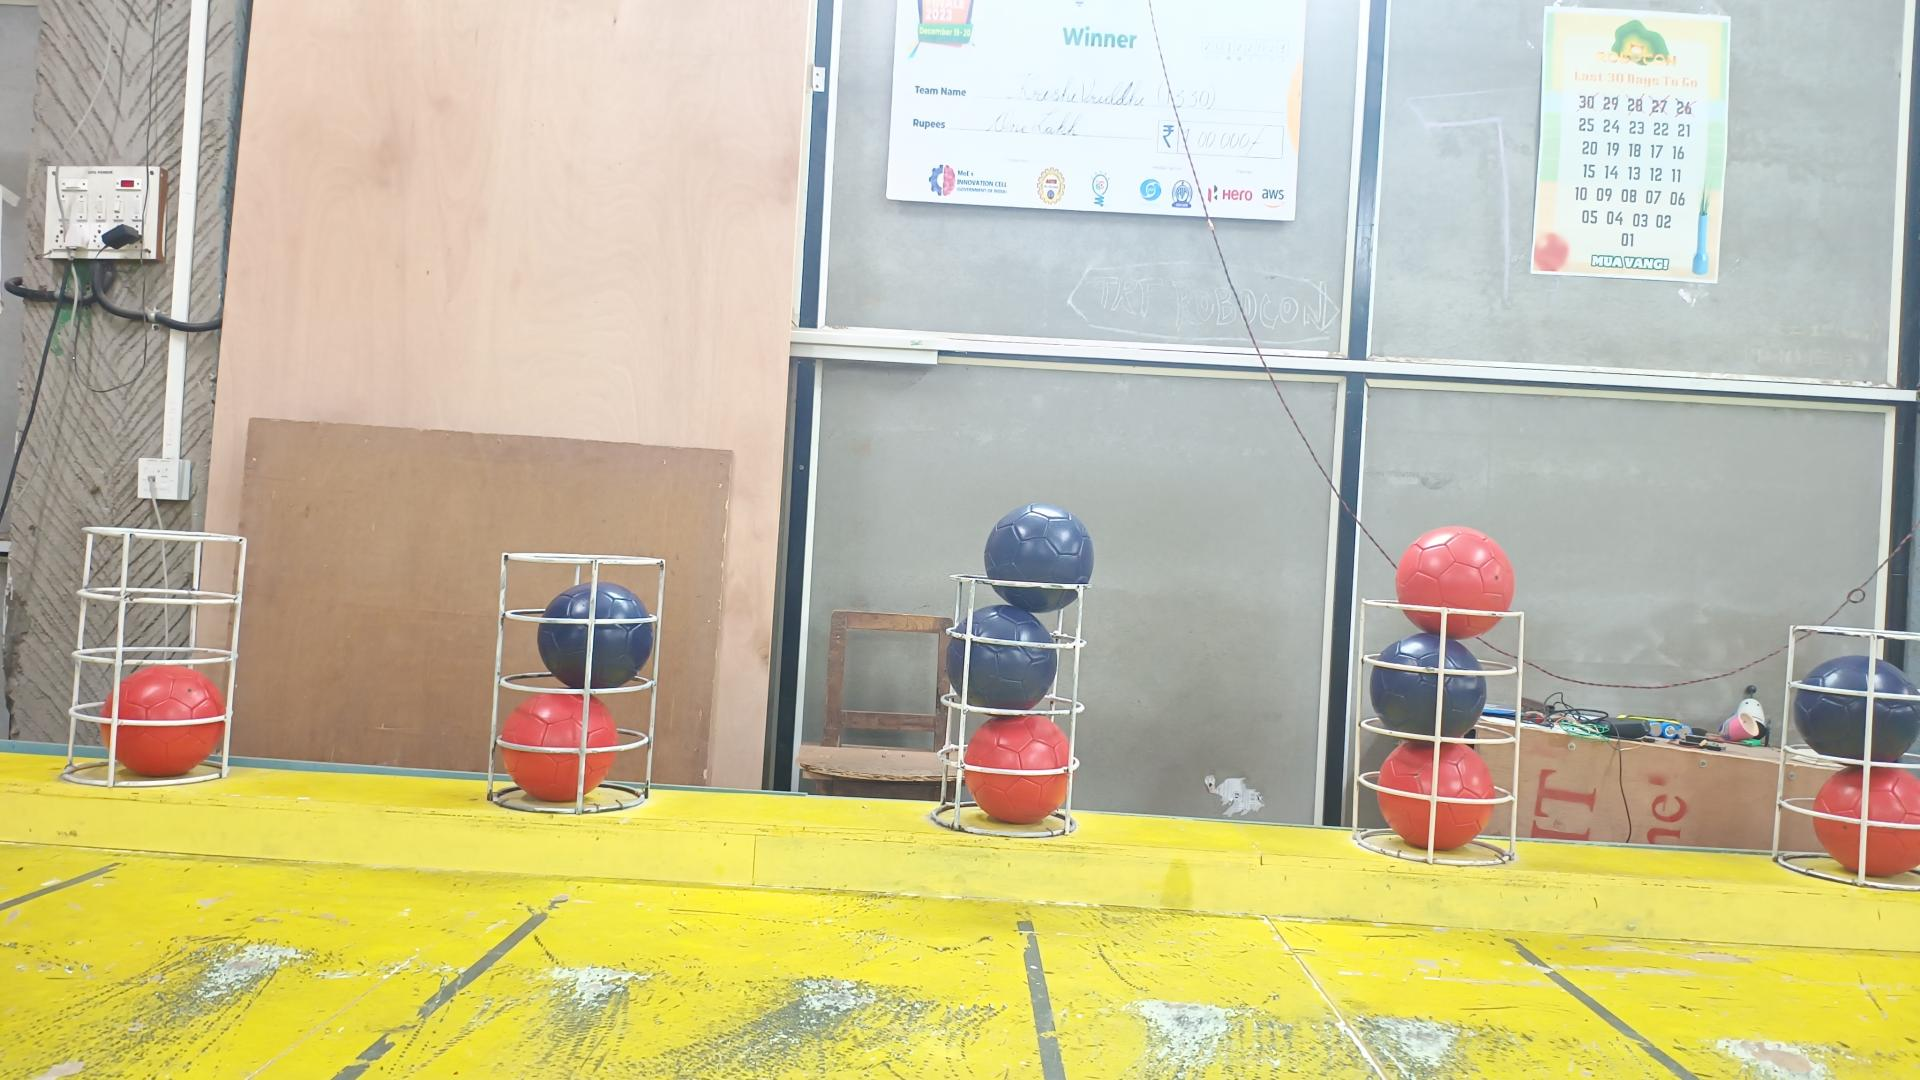dhoka: (1792, 657, 1920, 761), (537, 583, 653, 692), (1370, 634, 1486, 742), (982, 505, 1092, 613), (944, 605, 1056, 709)
laale: (96, 666, 224, 778), (1394, 529, 1514, 642), (1378, 741, 1498, 853), (498, 696, 618, 804), (964, 716, 1076, 824), (1812, 769, 1920, 877)
